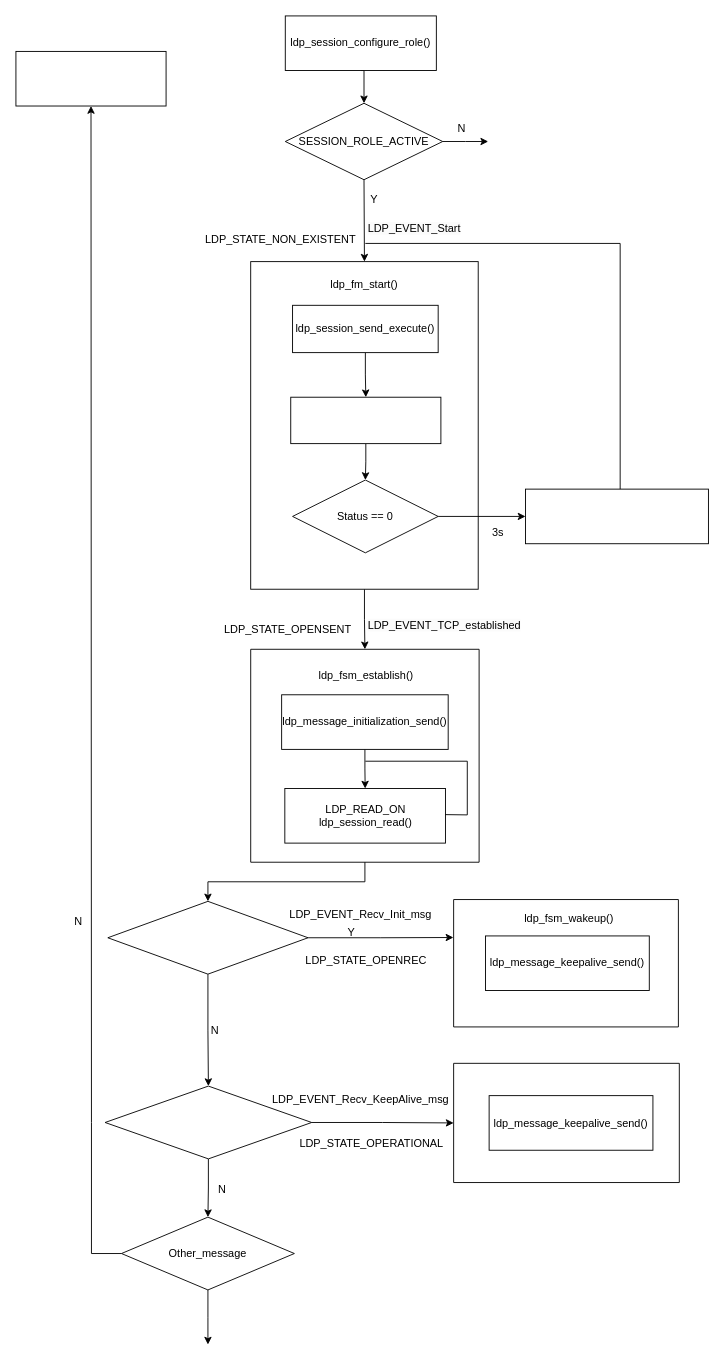
The diagram is 724 pixels wide and 1368 high, and some of its shapes have lost their labels. Here are the shapes that lost their labels. From the top down, the centre of each, then its label:
At (x=90, y=78): "ldp_fsm_stop()".
At (x=365, y=420): "ldp_session_connect_check()".
At (x=616, y=516): "ldp_session_tcp_reconnect_timer()".
At (x=207, y=937): "ldp_message_initialization_recv()".
At (x=208, y=1122): "ldp_message_keepalive_recv()".
